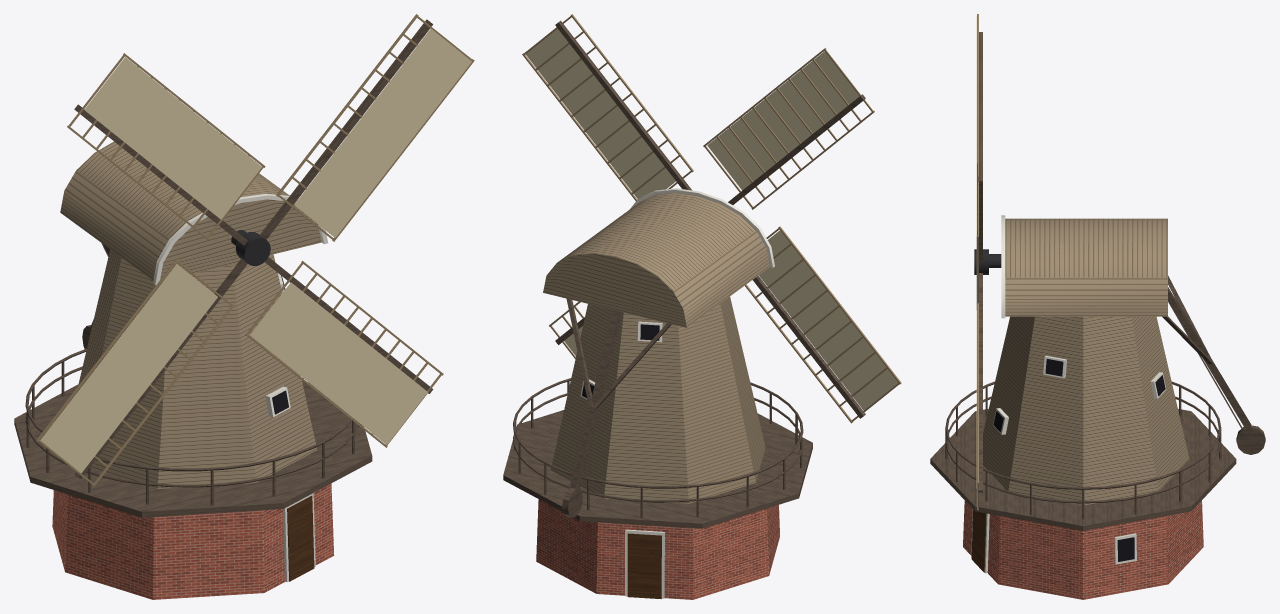
The model's file is pack-windmill.glb.
3 views of the same model, side by side, from view 1: azimuth 30°, elevation 25°; view 2: azimuth 150°, elevation 25°; view 3: azimuth 270°, elevation 25° (orthographic). The views are drawn at different scales.
Visible parts, largest first — view 1: pack-windmill-Smock_Mill, Sails, pack-windmill-Cap; view 2: pack-windmill-Smock_Mill, Sails, pack-windmill-Cap; view 3: pack-windmill-Smock_Mill, pack-windmill-Cap, Sails.
Boxes of the visible parts, x1,y1,x2,y2 form: pack-windmill-Smock_Mill: (14, 249, 372, 599); Sails: (36, 14, 474, 486); pack-windmill-Cap: (60, 141, 327, 348); pack-windmill-Smock_Mill: (503, 296, 812, 599); Sails: (522, 14, 901, 423); pack-windmill-Cap: (543, 188, 774, 517); pack-windmill-Smock_Mill: (930, 316, 1236, 599); pack-windmill-Cap: (989, 215, 1265, 454); Sails: (974, 14, 988, 510).
Size of the model in its own units: 5.04 by 6.22 by 3.95.
5 materials, 4 textured.
